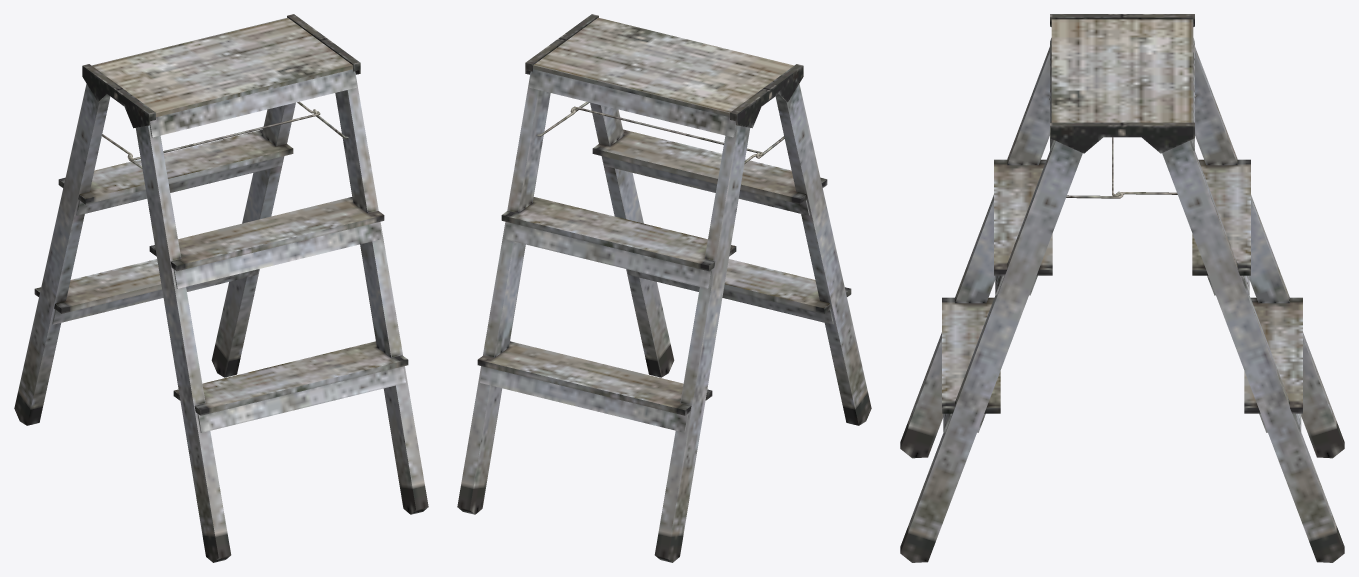
File: 154_FoldingGladder.fbx
3 renders of one model, left to right at view 1: azimuth 30°, elevation 25°; view 2: azimuth 150°, elevation 25°; view 3: azimuth 270°, elevation 25°, orthographic. The views are drawn at different scales.
Visible parts, largest first — view 1: LOD_1_Group_0_Sub_1__sm30_154_Foldingladder02A_A_Mat; view 2: LOD_1_Group_0_Sub_1__sm30_154_Foldingladder02A_A_Mat; view 3: LOD_1_Group_0_Sub_1__sm30_154_Foldingladder02A_A_Mat.
Part boxes in pixels (x1=…): LOD_1_Group_0_Sub_1__sm30_154_Foldingladder02A_A_Mat: x1=14, y1=14, x2=428, y2=562; LOD_1_Group_0_Sub_1__sm30_154_Foldingladder02A_A_Mat: x1=457, y1=14, x2=871, y2=562; LOD_1_Group_0_Sub_1__sm30_154_Foldingladder02A_A_Mat: x1=900, y1=14, x2=1344, y2=562.
Size of the model in its own units: 0.5922 by 1.08 by 0.9911.
